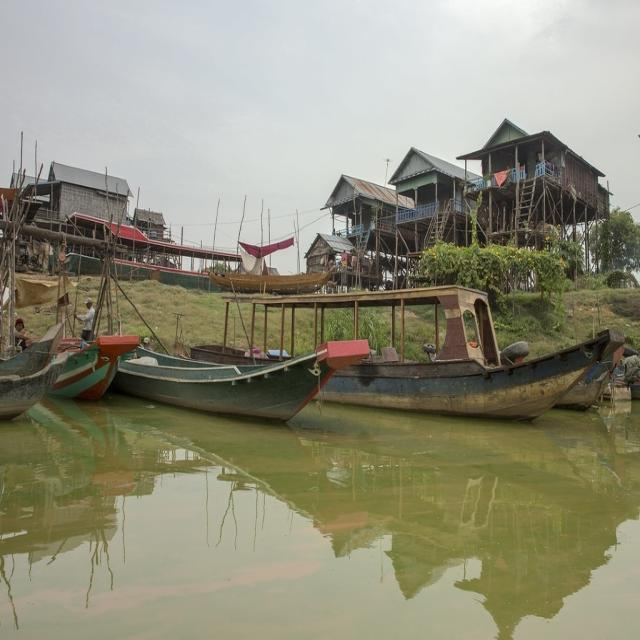boat: (186, 288, 612, 420)
